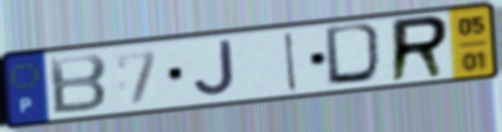7: (114, 48, 159, 106)
B: (46, 51, 110, 117)
D: (322, 21, 389, 88)
I: (282, 29, 300, 95)
J: (191, 38, 239, 99)
R: (387, 13, 452, 86)
